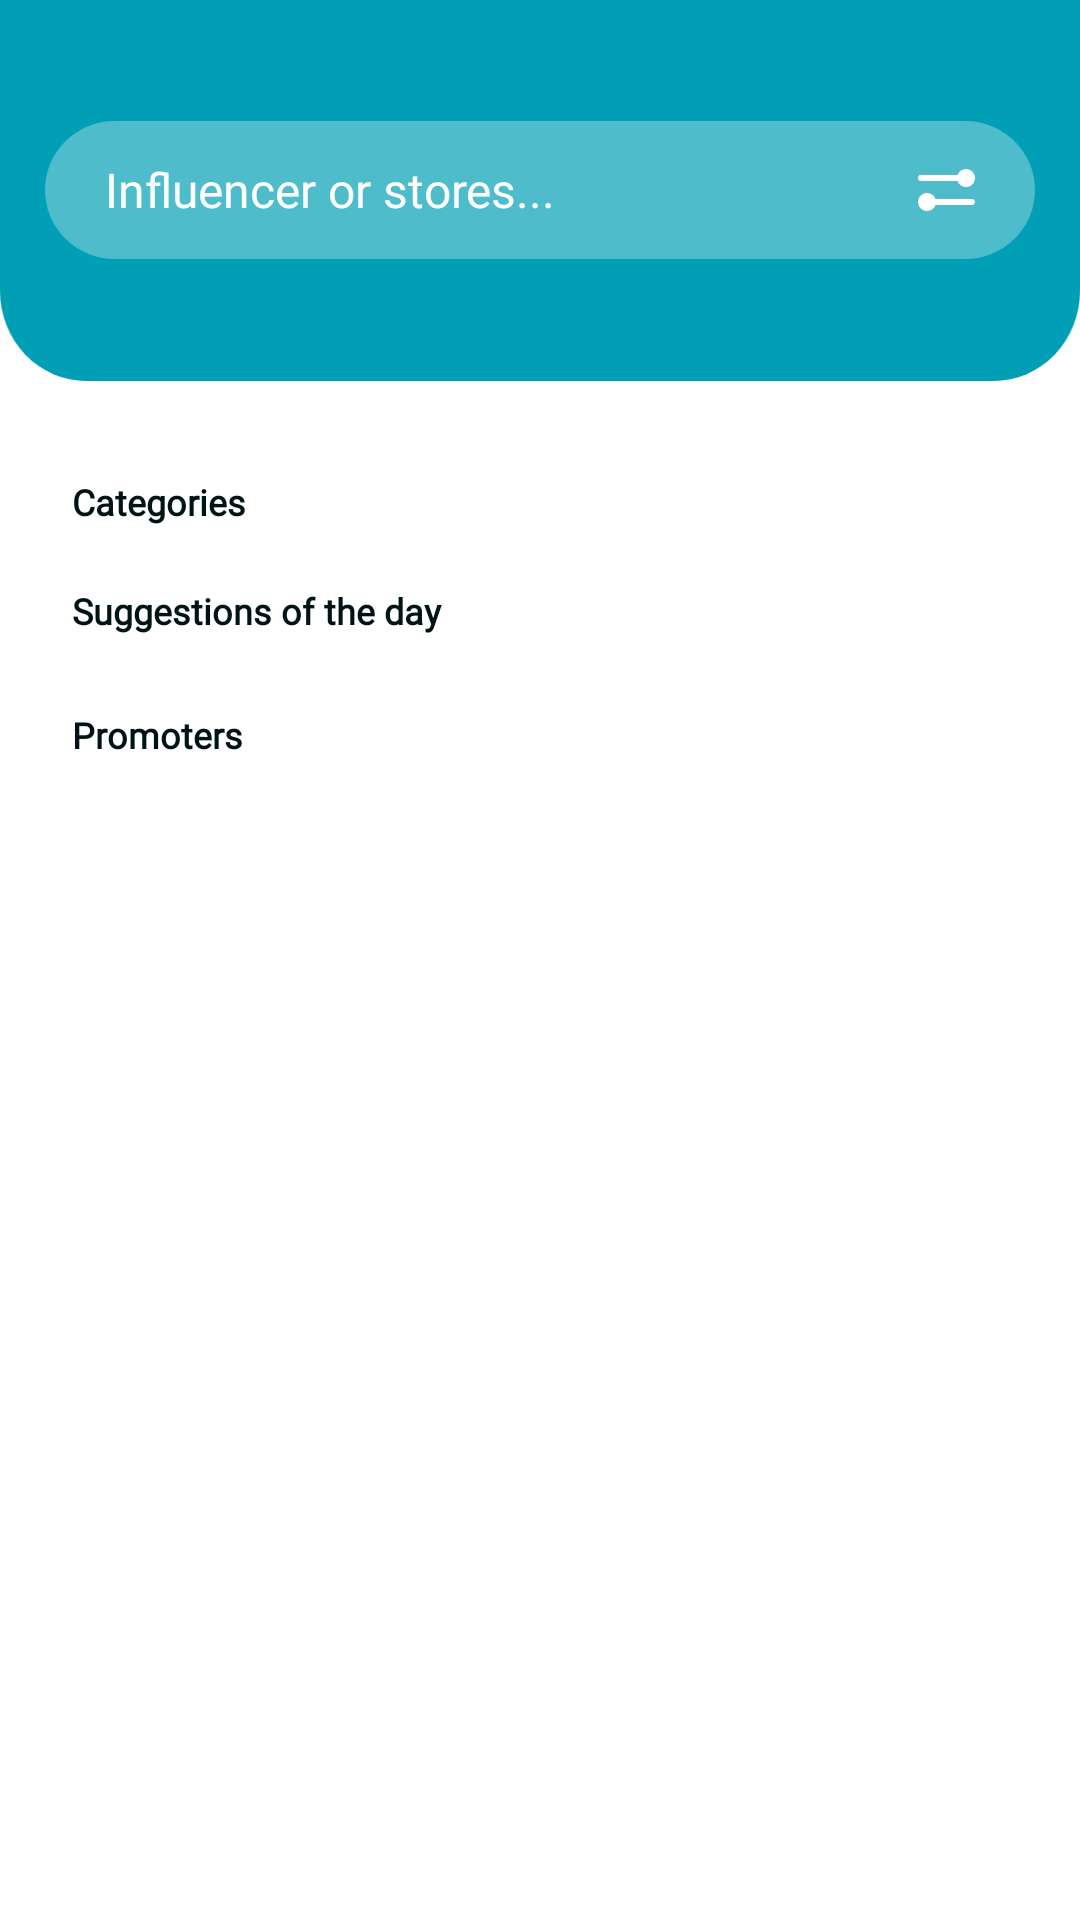

Named icons in this screenshot (1080px×1920px) and their centers, (x=x, y=y):
filter: (x=946, y=190)
